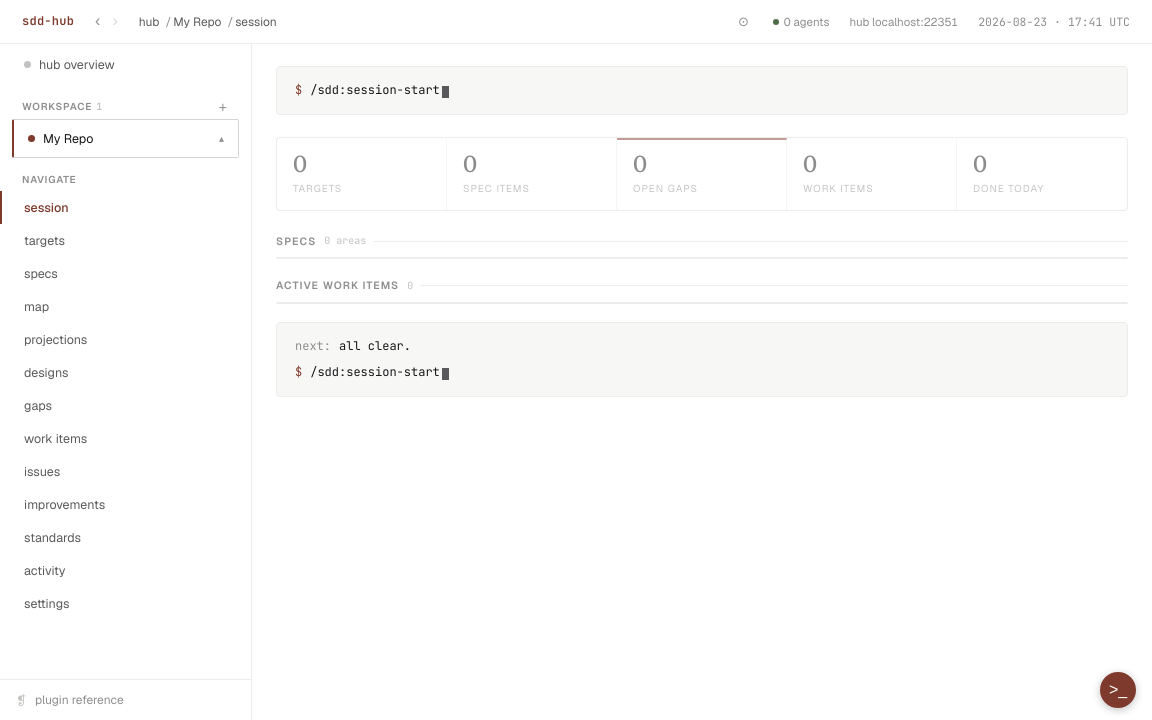
Test: liveActivity accumulated from WebSocket activity events (WI-scr-026) › activity WS message appears in Activity screen after navigating to activity tab
The image size is (1152, 720).
Click the button with class "sidenav-nav-row" showing "activity" at (126, 570), box [0,554,251,587]
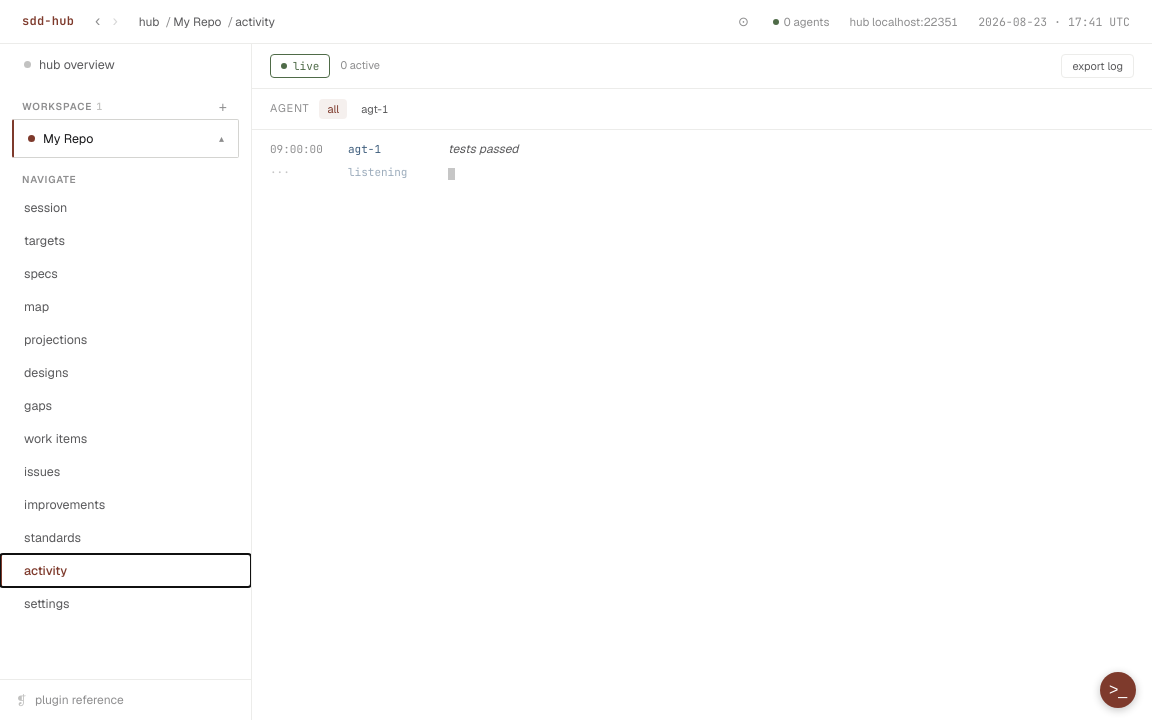
Expected: the text "tests passed" is shown, [448,141,518,157]
